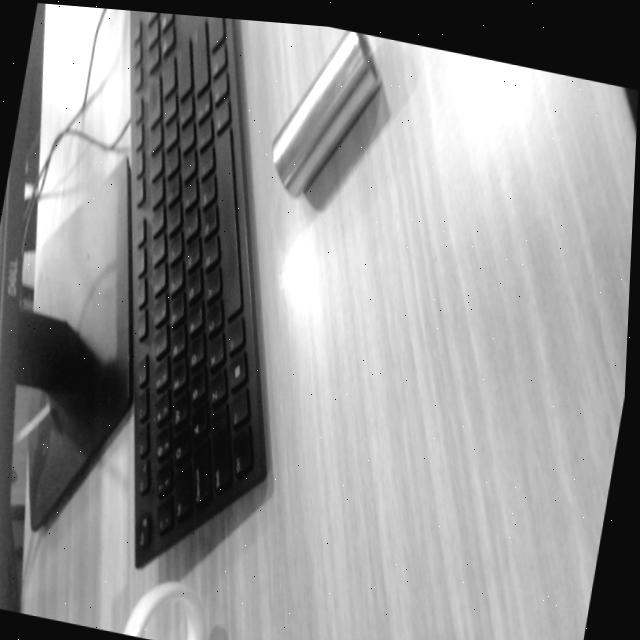Co_Lon: (253, 24, 399, 202)
